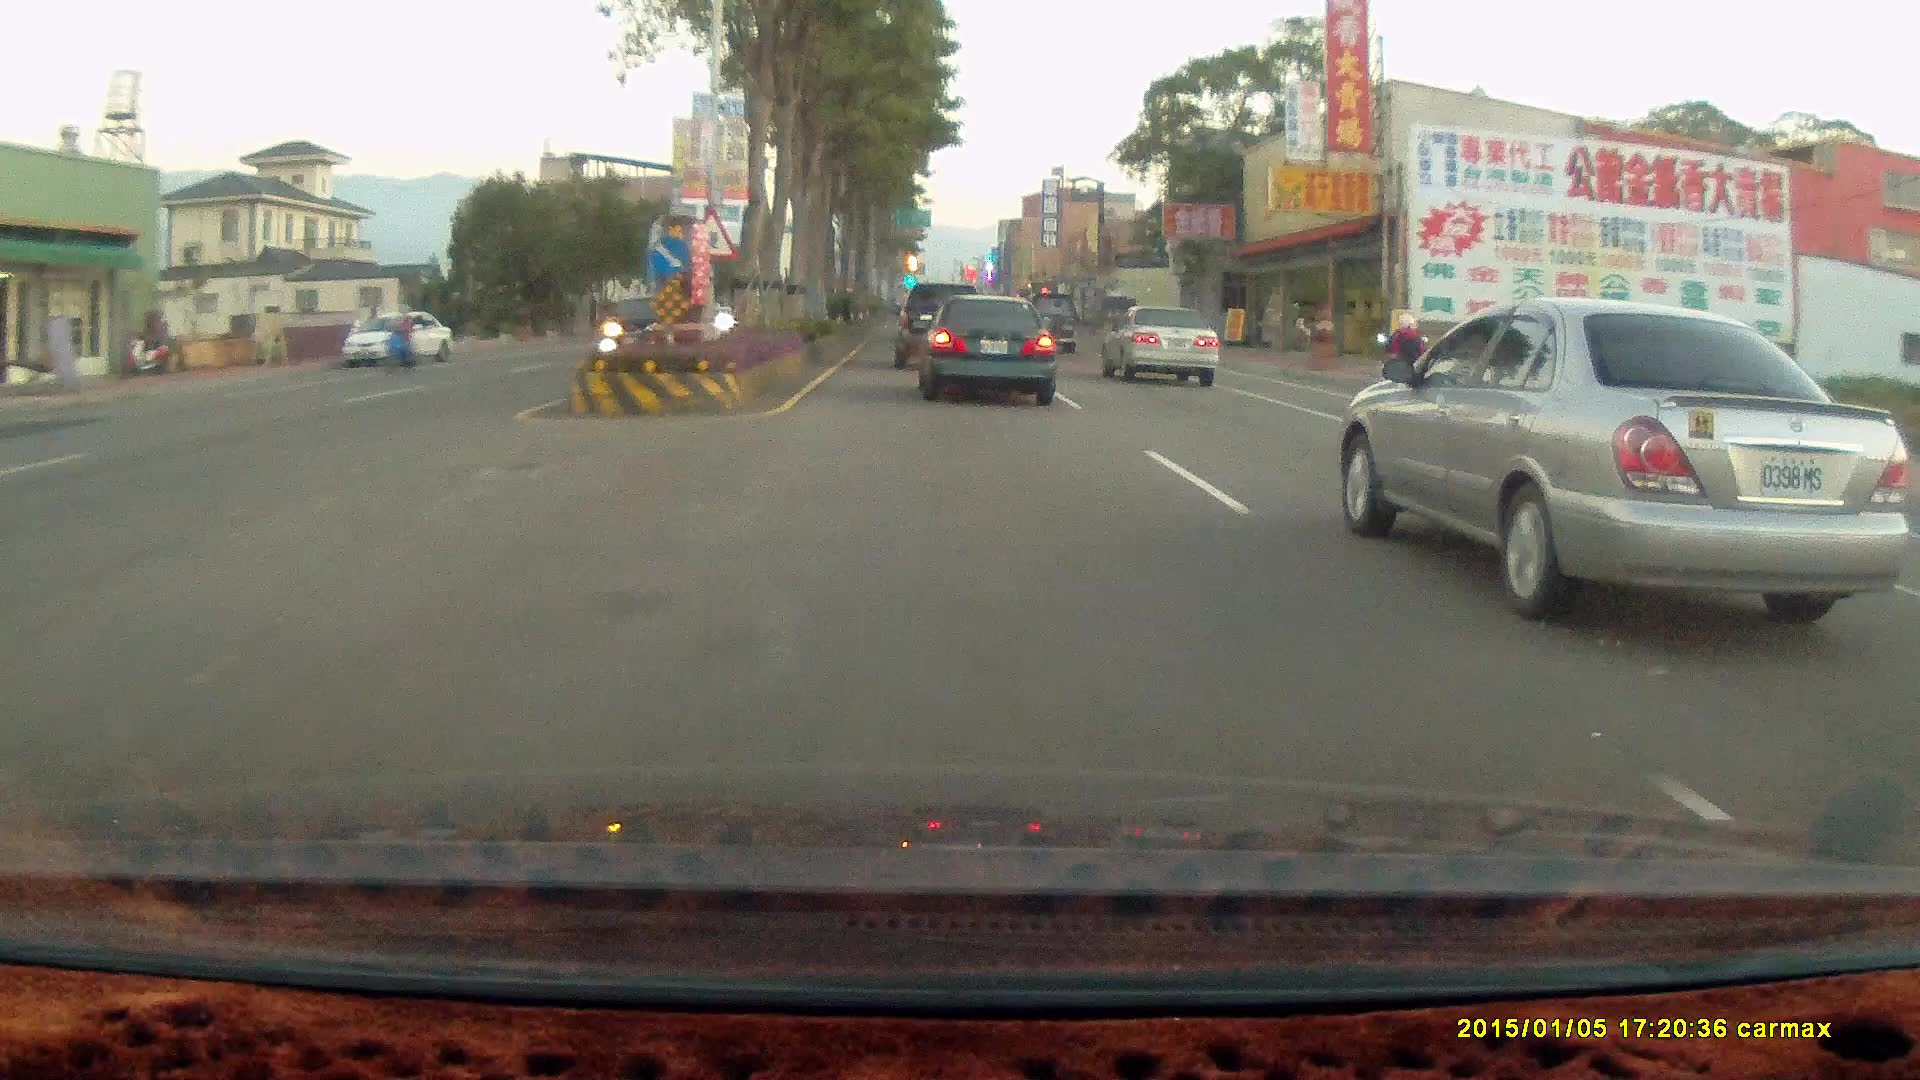rider: (1368, 302, 1445, 425), (1371, 315, 1423, 421), (376, 302, 416, 373)
vehicle: (1349, 288, 1920, 623), (911, 295, 1055, 408), (917, 299, 1060, 410), (1104, 307, 1225, 391), (1098, 304, 1219, 388), (892, 281, 984, 374), (892, 281, 981, 368), (335, 310, 454, 368), (596, 292, 699, 356), (597, 293, 700, 357), (1014, 291, 1078, 355)
